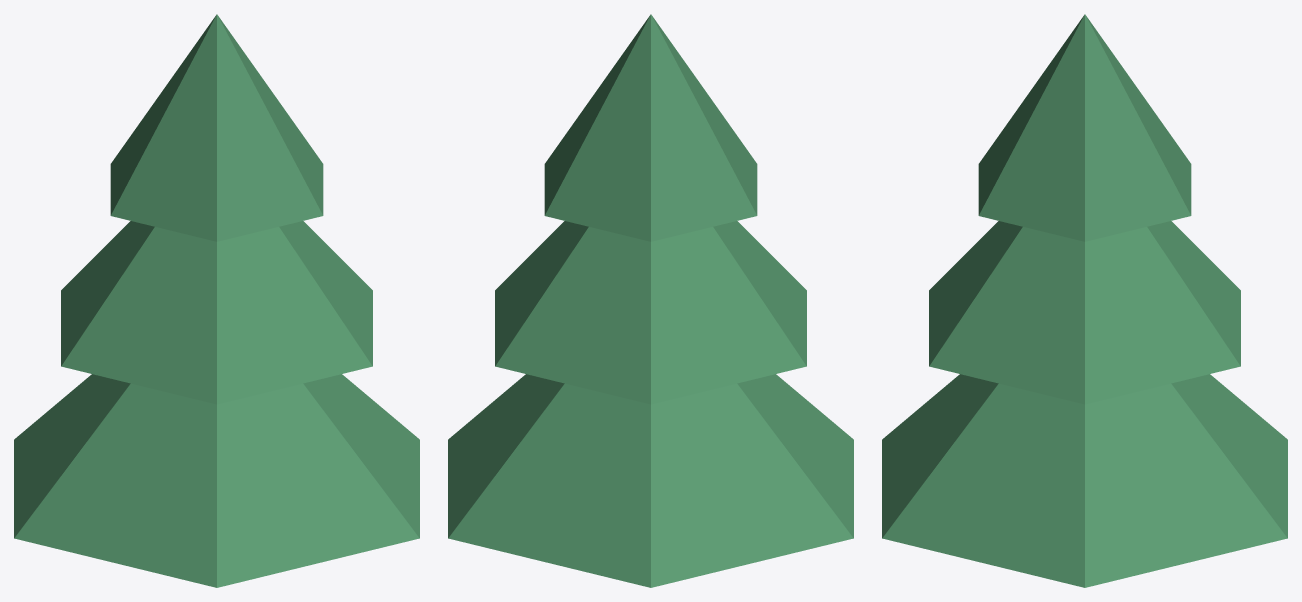
File: forest-lod-medium-conifer.glb
3 views of the same model, side by side, from view 1: azimuth 30°, elevation 25°; view 2: azimuth 150°, elevation 25°; view 3: azimuth 270°, elevation 25° (orthographic).
Parts seen in each view (by area): view 1: crown0, crown1, crown2; view 2: crown0, crown1, crown2; view 3: crown0, crown1, crown2.
Part boxes in pixels (<box>): crown0: <box>14,374,419,587</box>; crown1: <box>61,221,372,404</box>; crown2: <box>110,14,323,241</box>; crown0: <box>448,374,853,587</box>; crown1: <box>495,221,806,404</box>; crown2: <box>544,14,757,241</box>; crown0: <box>882,374,1287,587</box>; crown1: <box>929,221,1240,404</box>; crown2: <box>978,14,1191,241</box>.
Bounding box in the file's own units: 1.64 × 1.83 × 1.42.
